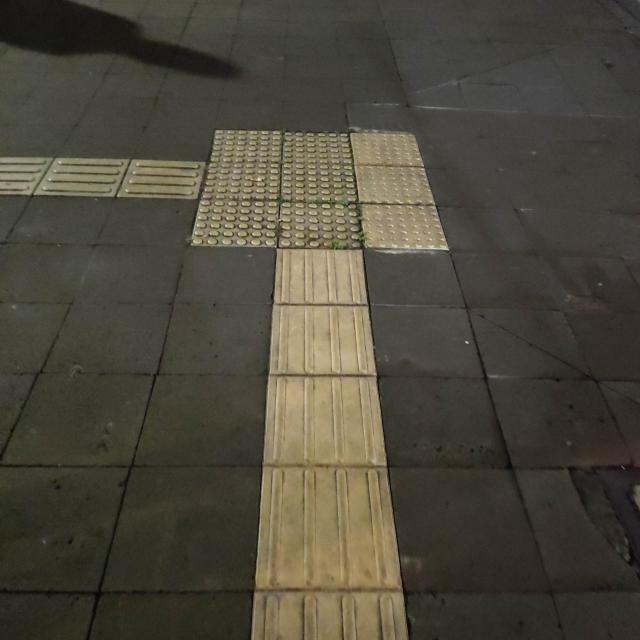kiri: (68, 100, 402, 306)
